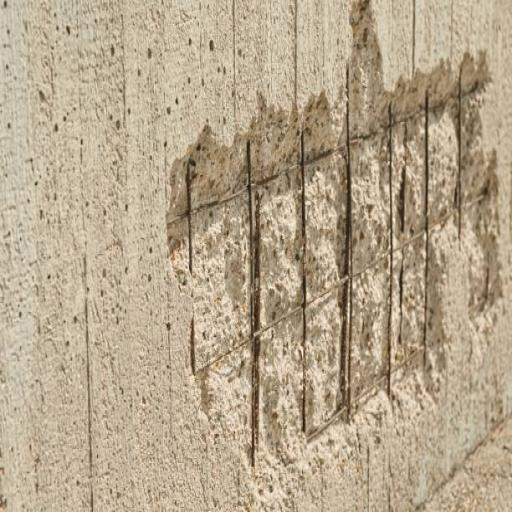spalling: (166, 0, 499, 468)
